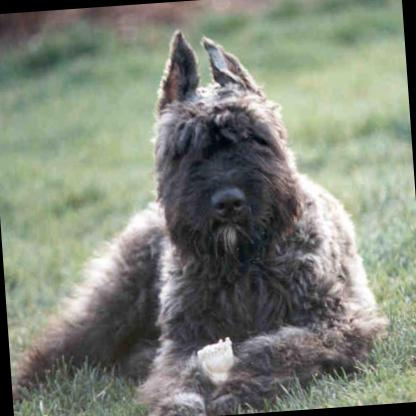Bouvier_des_Flandres: (0, 15, 389, 416)
